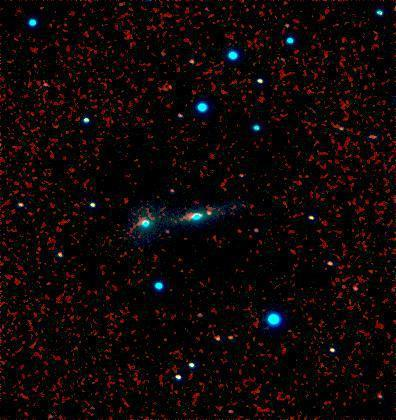star: (202, 200, 232, 230)
